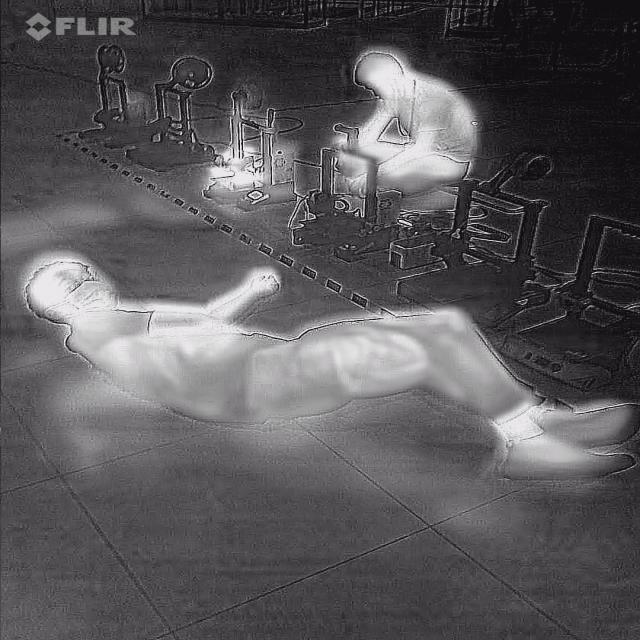Victim: (11, 255, 634, 493), (335, 31, 488, 204)
